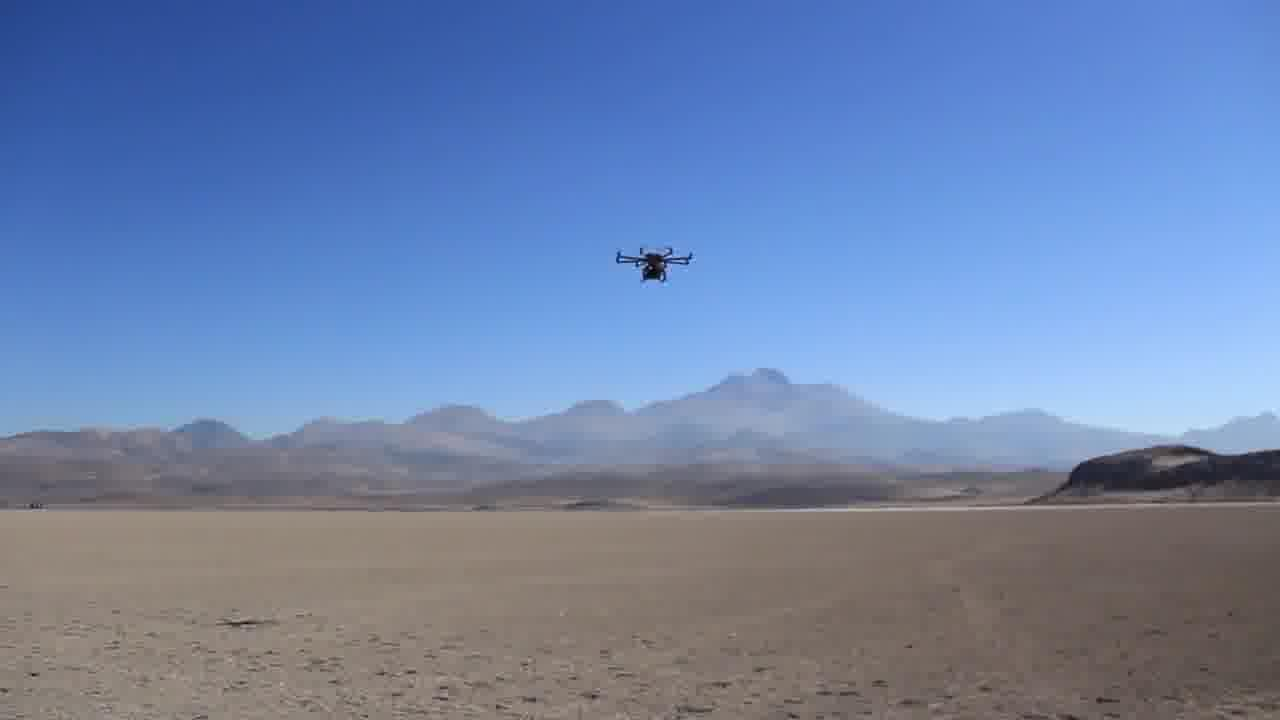drone: (607, 236, 694, 292)
